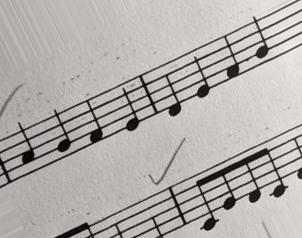A: (11, 119, 39, 173)
D: (161, 66, 184, 118)
E: (116, 86, 141, 134), (190, 53, 213, 100)
F: (82, 98, 105, 147), (221, 35, 241, 82)
G: (48, 108, 74, 159), (247, 14, 270, 68)
